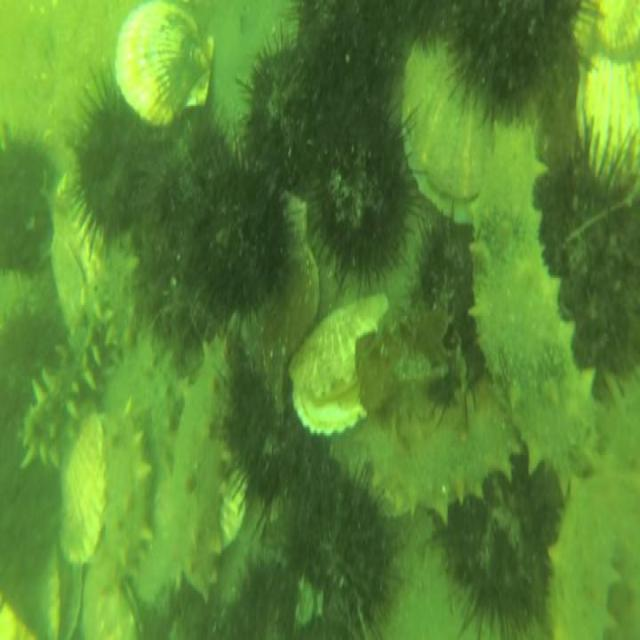echinus: (541, 126, 640, 384), (431, 464, 565, 640), (313, 84, 415, 289), (278, 452, 399, 623), (191, 147, 297, 325), (452, 0, 586, 123), (240, 30, 337, 198), (68, 87, 162, 256), (220, 362, 310, 518), (407, 204, 474, 398), (0, 126, 61, 274), (291, 0, 374, 101)
holothurian: (468, 123, 606, 498), (140, 330, 234, 616), (339, 379, 520, 515), (17, 282, 118, 478), (81, 403, 152, 640)
scallop: (398, 24, 482, 221), (291, 289, 397, 438), (114, 0, 216, 125), (57, 406, 108, 571), (276, 196, 321, 365), (576, 58, 639, 174), (79, 567, 147, 640)
